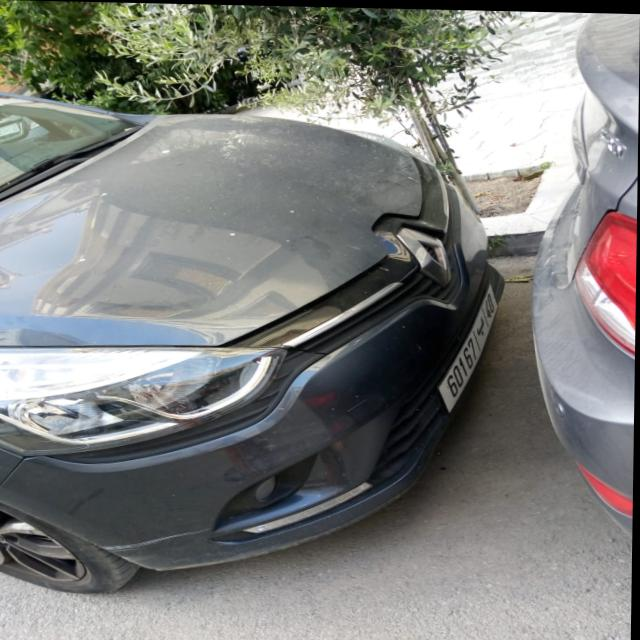License-Plate: (441, 284, 498, 409)
